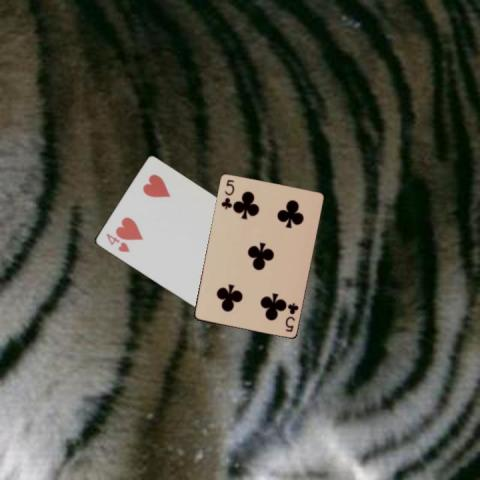4h: (102, 230, 130, 254)
5c: (282, 300, 300, 334), (218, 176, 235, 210)
